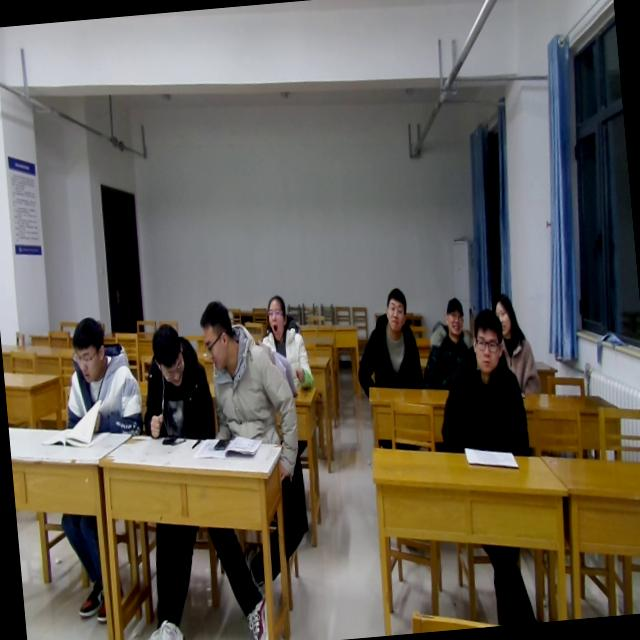down: (64, 313, 112, 387)
lookup: (468, 305, 507, 378), (380, 281, 409, 337), (438, 294, 468, 342), (262, 292, 289, 342), (490, 288, 515, 334)
sit: (428, 306, 532, 463), (200, 291, 302, 446), (58, 312, 144, 440), (134, 318, 215, 444), (349, 285, 427, 399), (414, 295, 482, 391), (257, 290, 316, 394), (492, 288, 543, 399)
